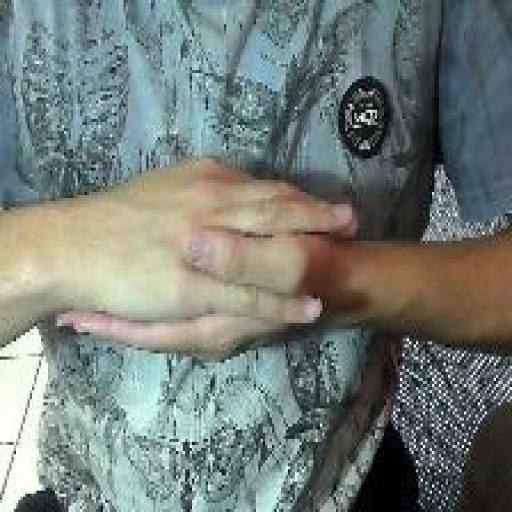Saru -monkey-: (50, 148, 364, 370)
